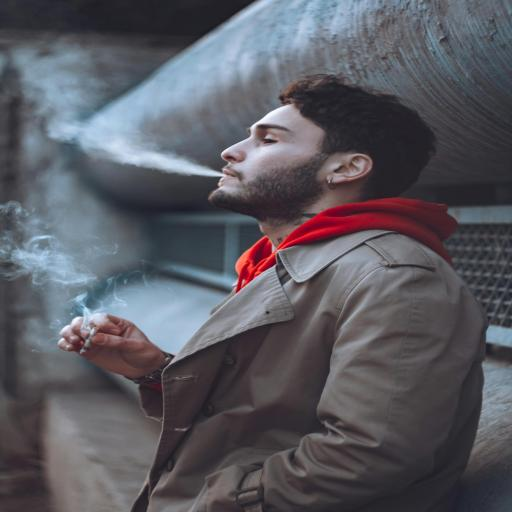terdeteksi pegang rokok: (43, 283, 160, 391)
